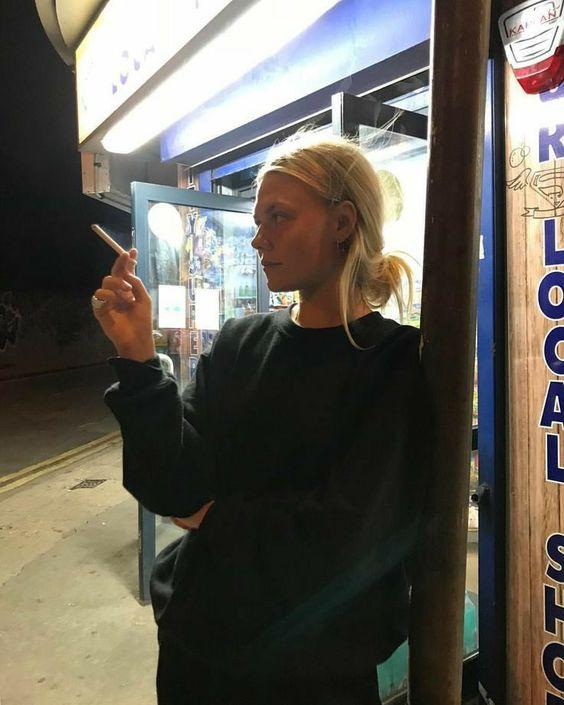cigarette: (89, 224, 137, 266)
